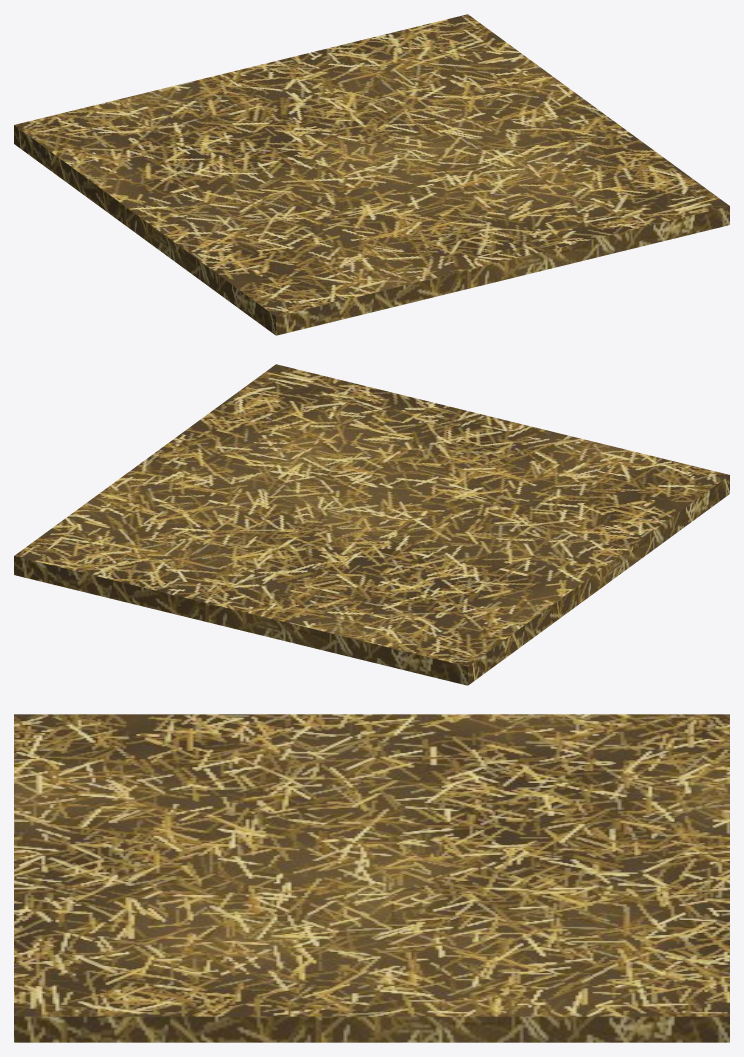
Rendered from interior_floor_straw.glb.
3 views of the same model, one above another, from view 1: azimuth 30°, elevation 25°; view 2: azimuth 150°, elevation 25°; view 3: azimuth 270°, elevation 25° (orthographic). The views are drawn at different scales.
Parts seen in each view (by area): view 1: interior_floor_straw; view 2: interior_floor_straw; view 3: interior_floor_straw.
Boxes of the visible parts, <box> form: interior_floor_straw: <box>14,14,729,335</box>; interior_floor_straw: <box>14,364,729,685</box>; interior_floor_straw: <box>14,714,729,1042</box>.
Bounding box in the file's own units: 1 × 0.04 × 1.
Materials: 1 (1 with a texture image).
